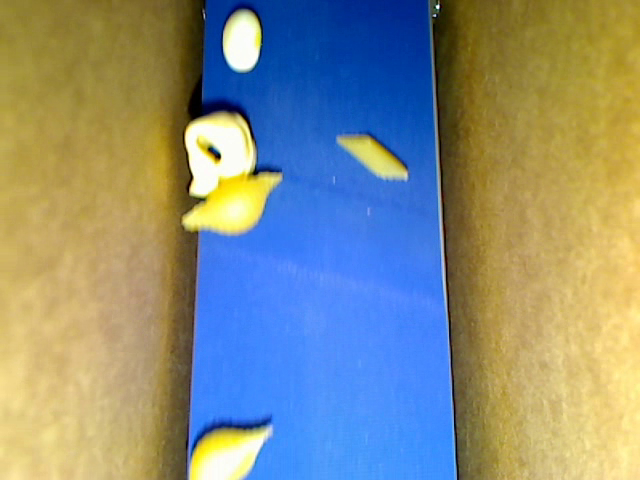penne: (335, 133, 408, 178)
shell: (180, 171, 282, 234), (188, 425, 272, 479)
tortellini: (184, 112, 256, 200)
